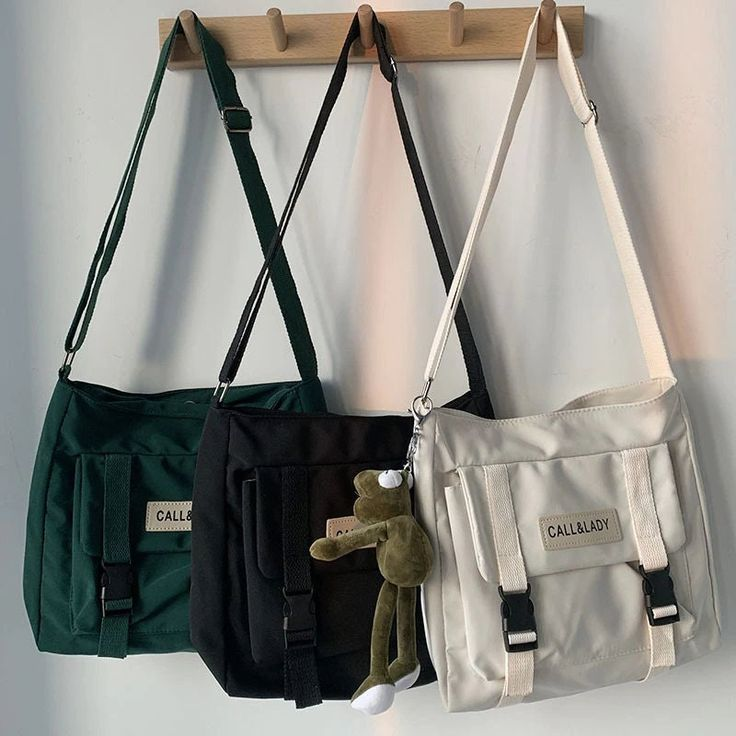nylon: (21, 8, 731, 713)
